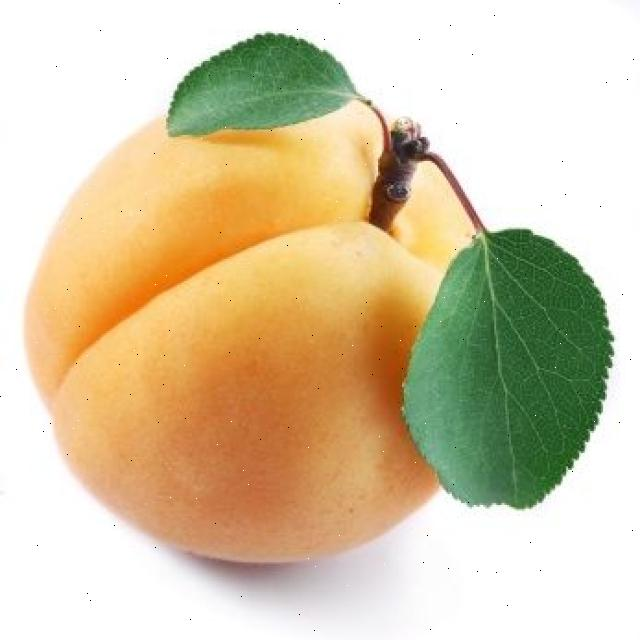kayisi: (27, 105, 474, 564)
kayisiyapragi: (402, 229, 616, 511), (168, 33, 367, 141)
